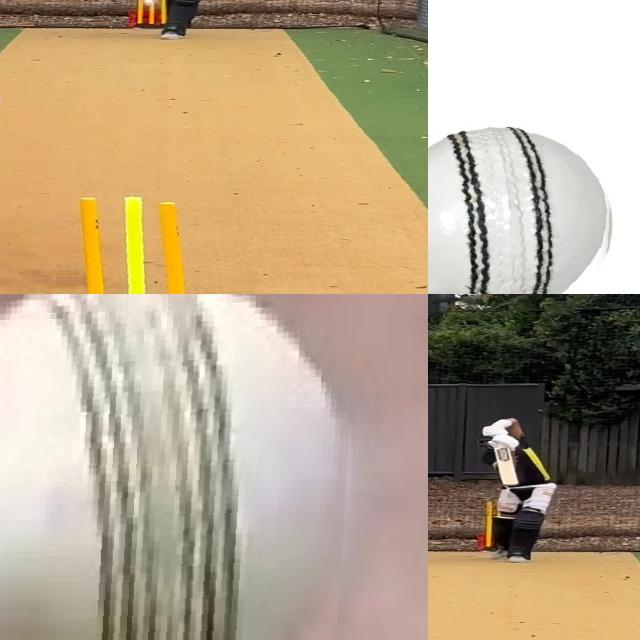Cricket ball: (0, 294, 360, 640), (428, 126, 615, 294), (142, 0, 156, 6)
Stumps: (55, 194, 195, 294)
